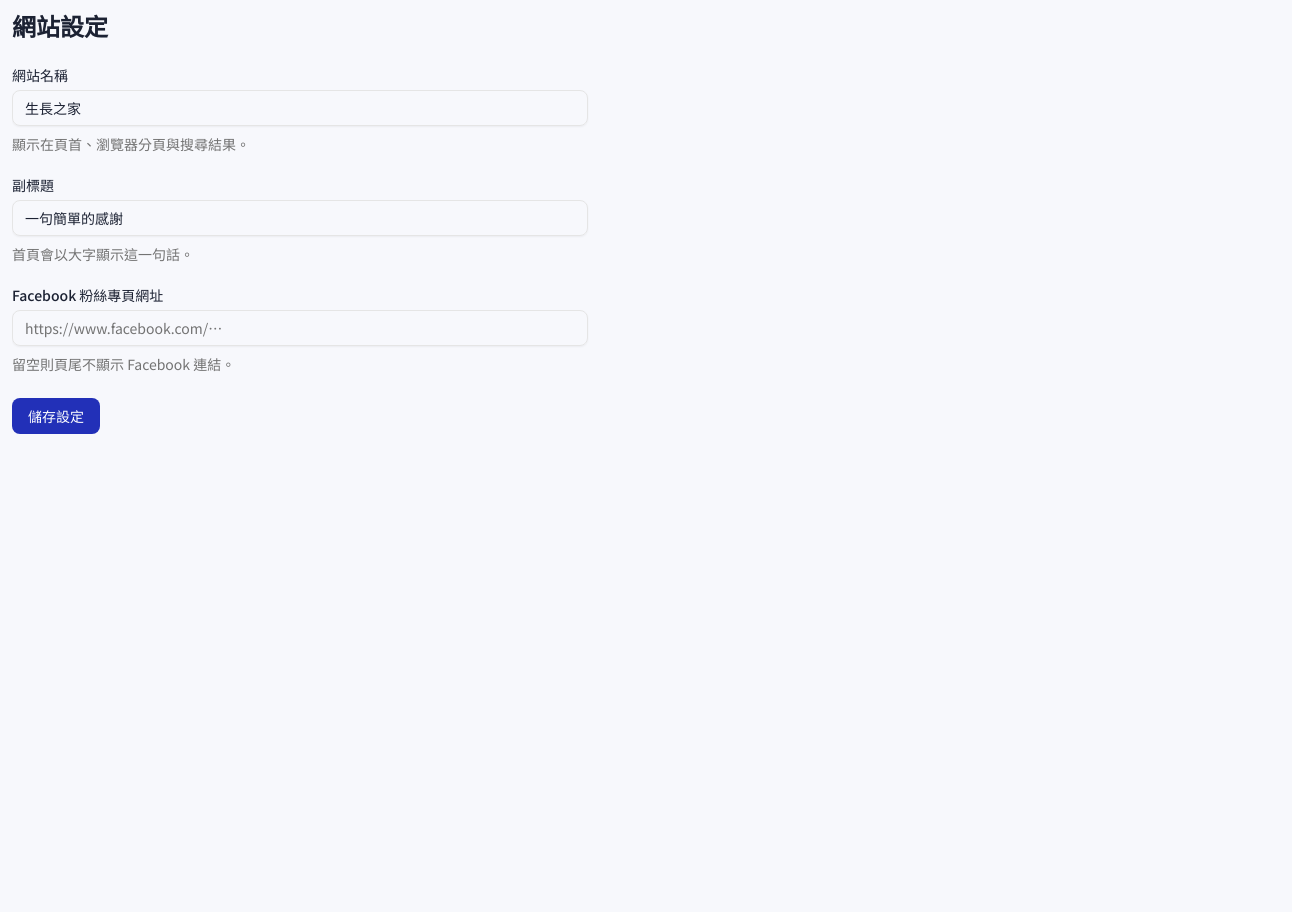
Scenario: 顯示伺服器的驗證訊息
The image size is (1292, 912).
Click the button "儲存設定" at (56, 416), box [12,398,100,434]
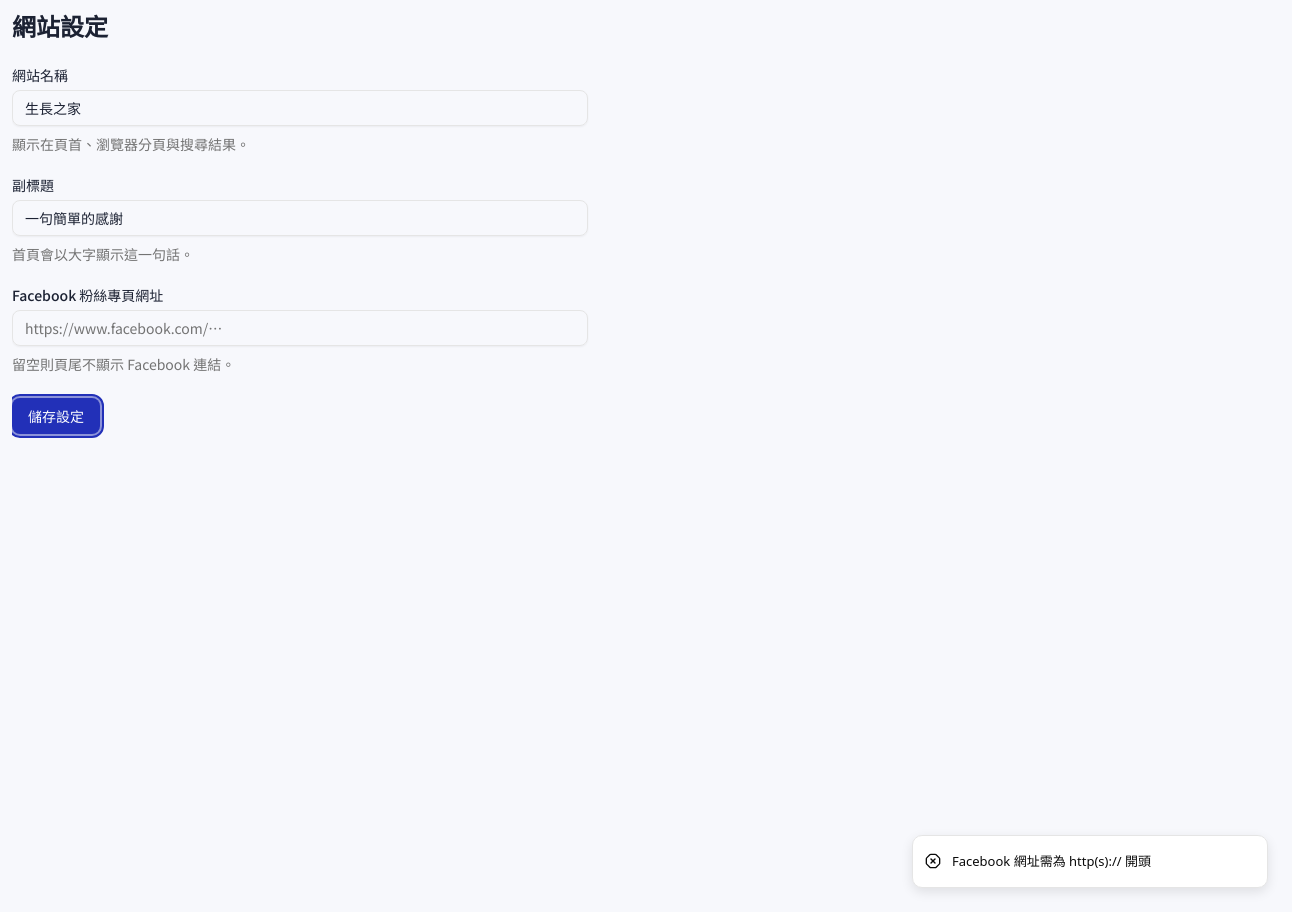
Now the text "Facebook 網址需為 http(s):// 開頭" is shown, box [952,852,1151,871]
